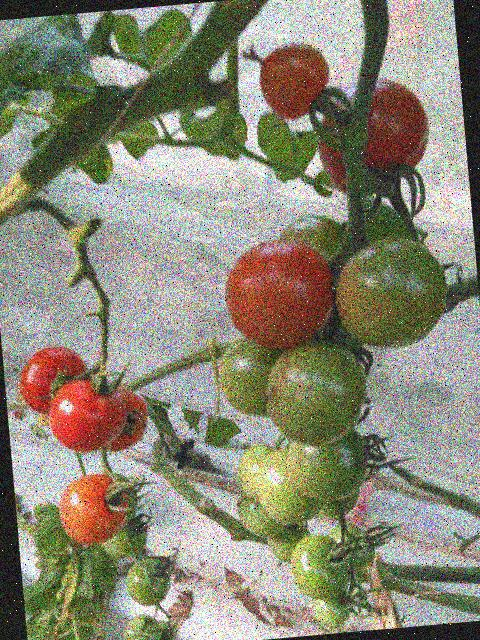l_fully_ripened: (311, 72, 435, 199), (220, 233, 339, 354), (45, 376, 129, 455), (255, 38, 333, 122), (15, 343, 93, 417), (96, 384, 151, 453)
l_green: (331, 232, 452, 352), (260, 334, 373, 450), (215, 330, 294, 421), (273, 210, 356, 291), (283, 427, 370, 504), (251, 445, 327, 527), (287, 531, 354, 602), (235, 487, 290, 540), (234, 442, 280, 504), (327, 519, 377, 574), (98, 511, 150, 561), (123, 557, 173, 608), (264, 522, 312, 564), (104, 470, 140, 520), (311, 592, 353, 631), (315, 489, 362, 519), (120, 611, 161, 640), (148, 618, 176, 640)
l_half_ripened: (56, 470, 131, 547)
